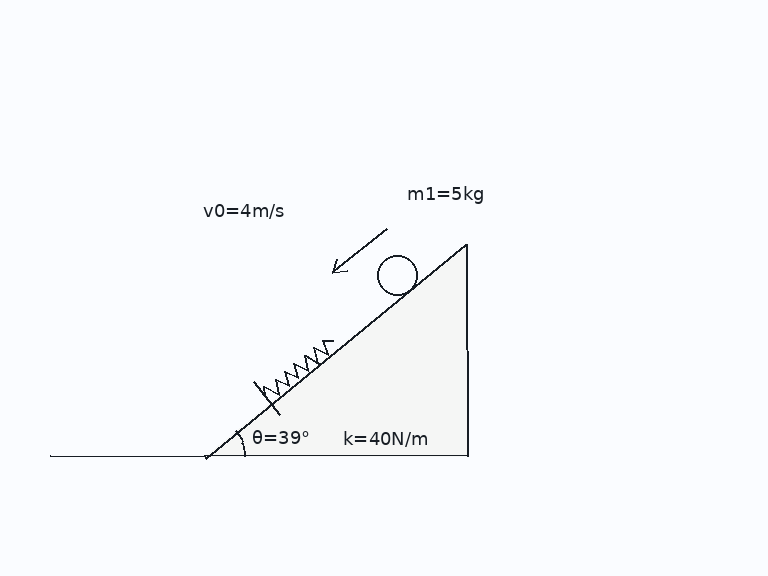ball: (375, 253, 419, 297)
ramp: (203, 242, 469, 458)
spring: (263, 337, 335, 398)
